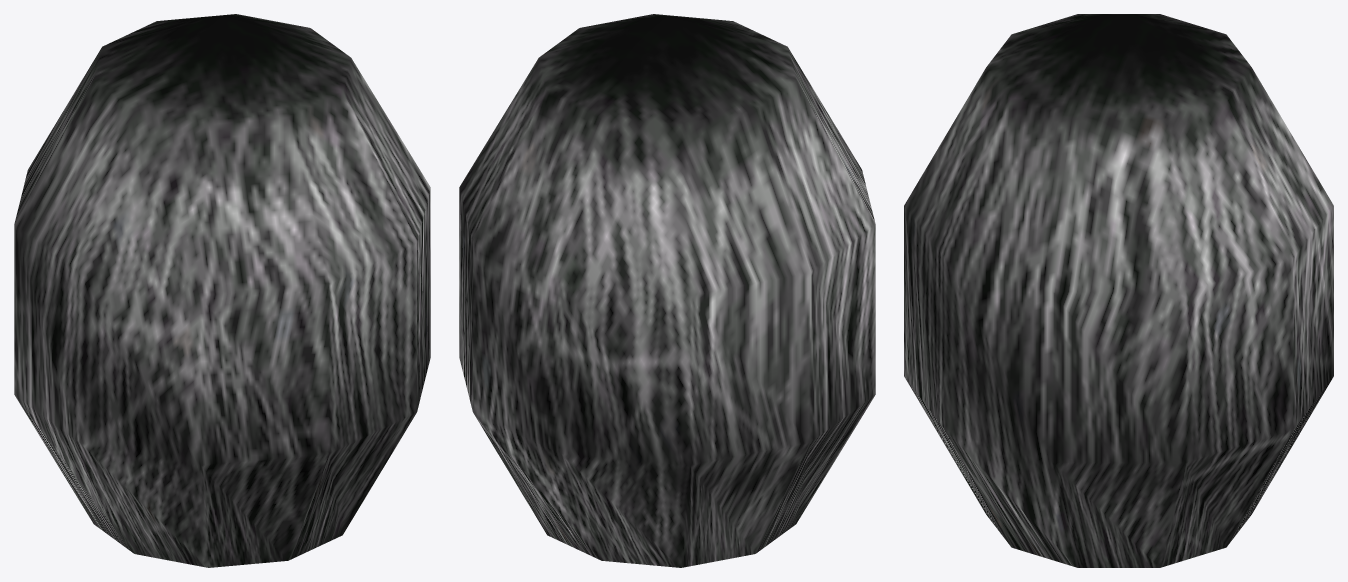
File: INST_SB_STOPPER_COCOON.fbx
3 views of the same model, side by side, from view 1: azimuth 30°, elevation 25°; view 2: azimuth 150°, elevation 25°; view 3: azimuth 270°, elevation 25° (orthographic).
Visible parts, largest first — view 1: INST_SB_STOPPER_COCOON; view 2: INST_SB_STOPPER_COCOON; view 3: INST_SB_STOPPER_COCOON.
Boxes of the visible parts, x1,y1,x2,y2 form: INST_SB_STOPPER_COCOON: [14, 14, 430, 567]; INST_SB_STOPPER_COCOON: [459, 14, 875, 567]; INST_SB_STOPPER_COCOON: [904, 14, 1333, 567].
Bounding box in the file's own units: 5891 × 8793 × 6195.
1 material, 1 textured.
